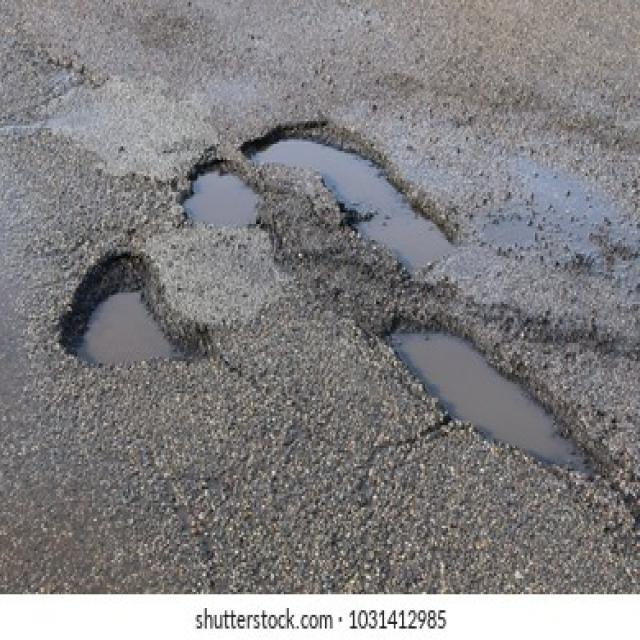Pothole: (376, 311, 609, 478), (239, 116, 456, 276), (61, 249, 216, 368), (177, 155, 263, 231)
